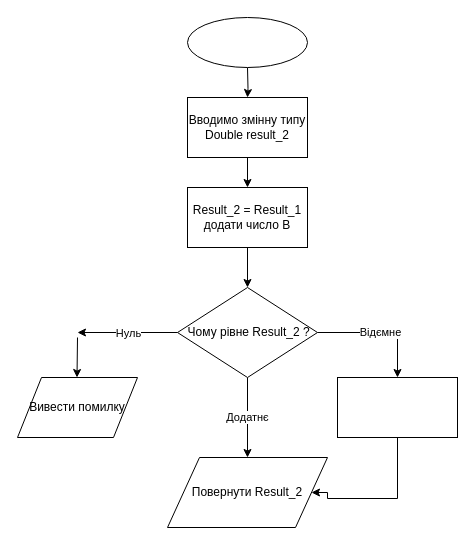
Image size: 475x545. Some labels were removed from this diagram. The shapes that lost their labels are listed below. From the top down, each one's box as (x1, y1, x2, y2) in pixels, then its label:
(186, 16, 308, 68): Створення функції суми
(336, 376, 458, 438): Домножити на -1
